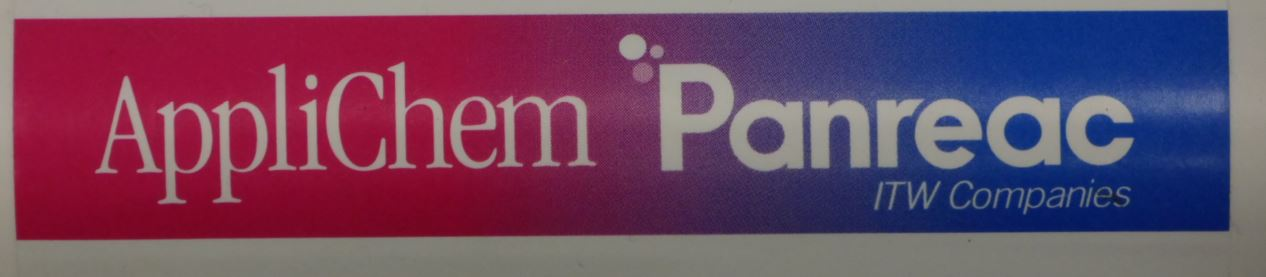ApplichemPanreac: (96, 31, 1139, 215)
